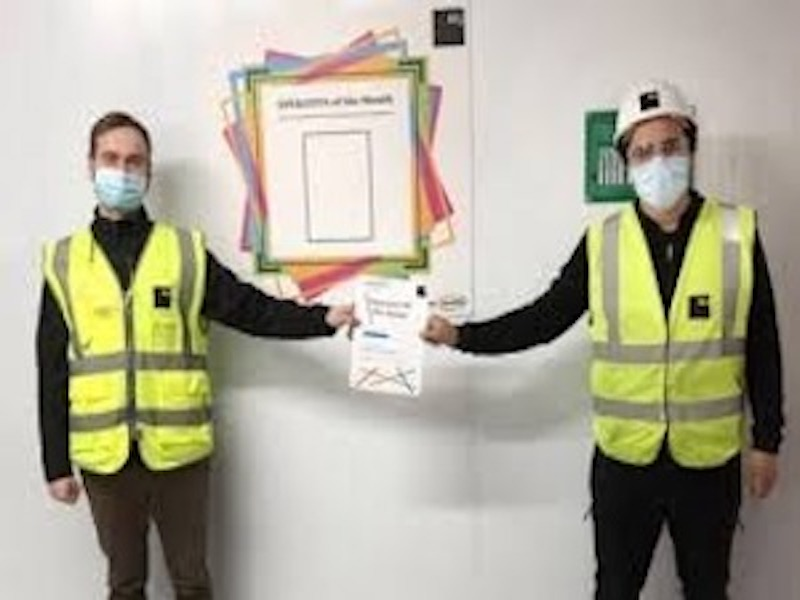safety: (610, 70, 709, 132)
vest: (585, 205, 759, 464), (42, 237, 215, 474)
